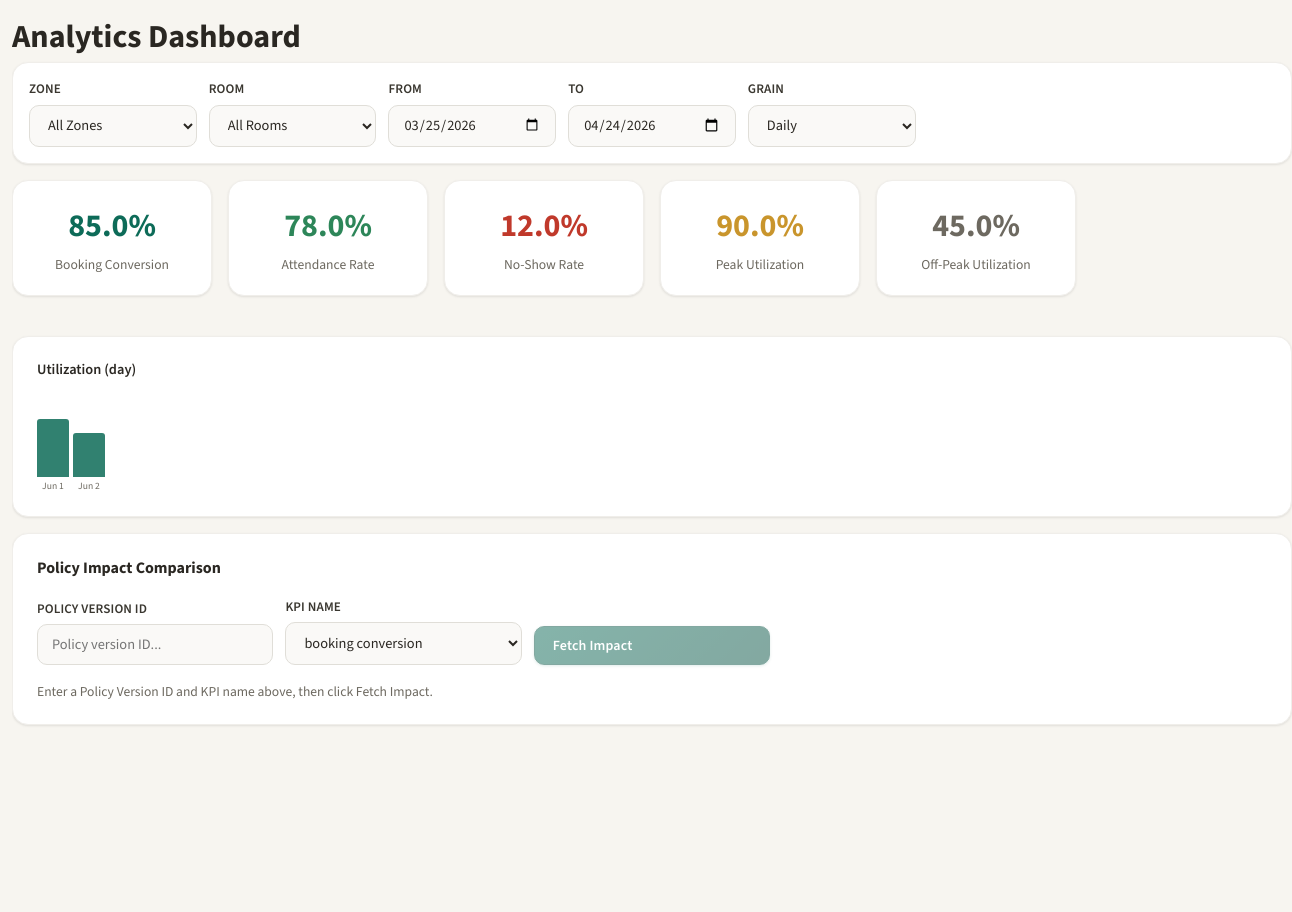
Test case: AnalyticsPage › Policy Impact section › enables Fetch Impact button when policy version ID is entered
Type "pol-v1-abc" into the field with placeholder "Policy version ID...". click: [155, 644]
box: [37,624,273,665]
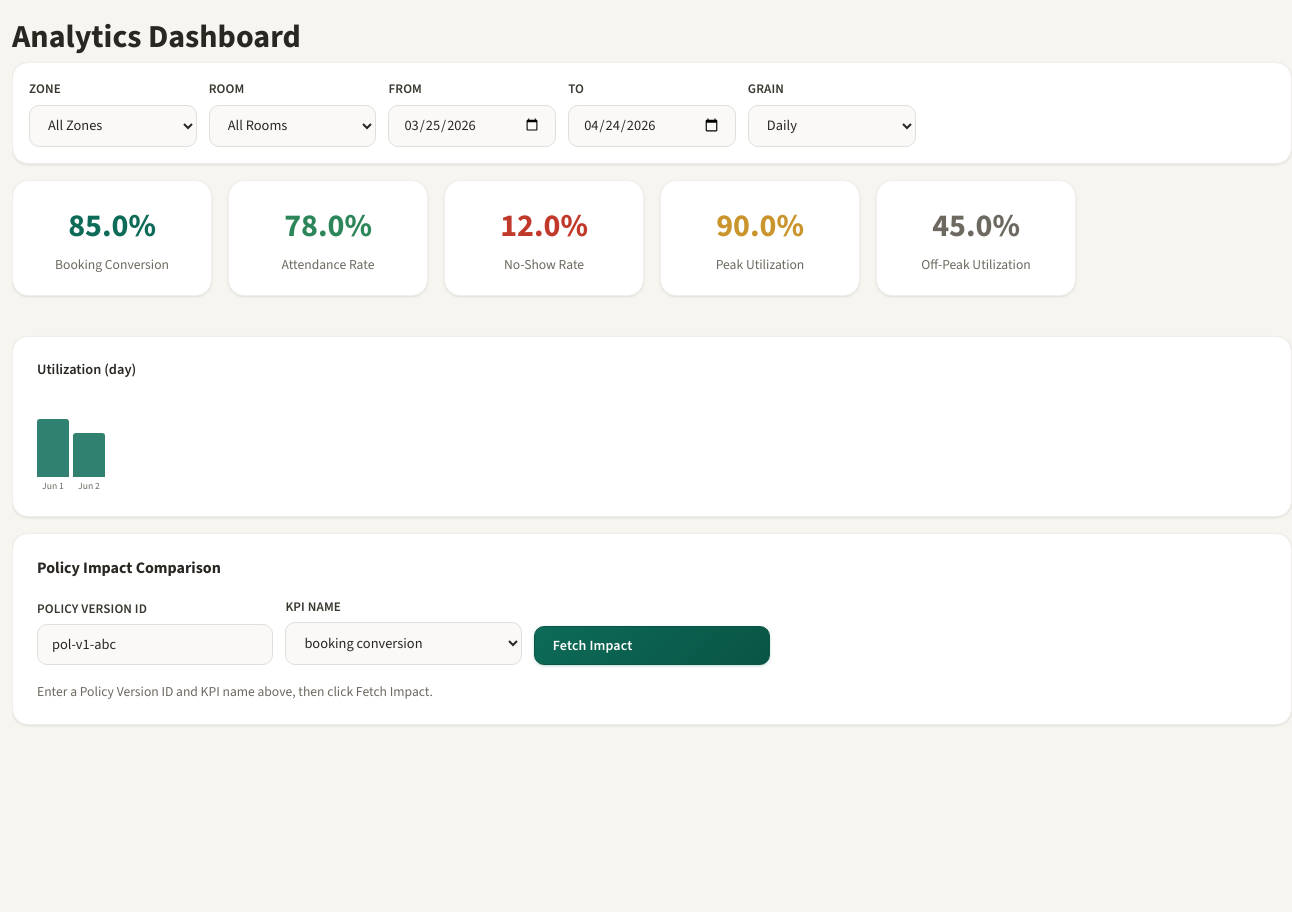
Now the button "Fetch Impact" is enabled, box [534,626,770,665]
